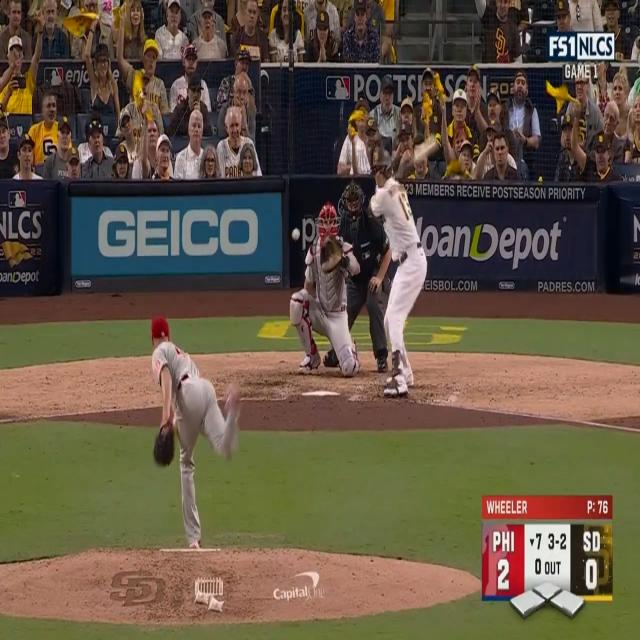baseball: (292, 228, 300, 240)
